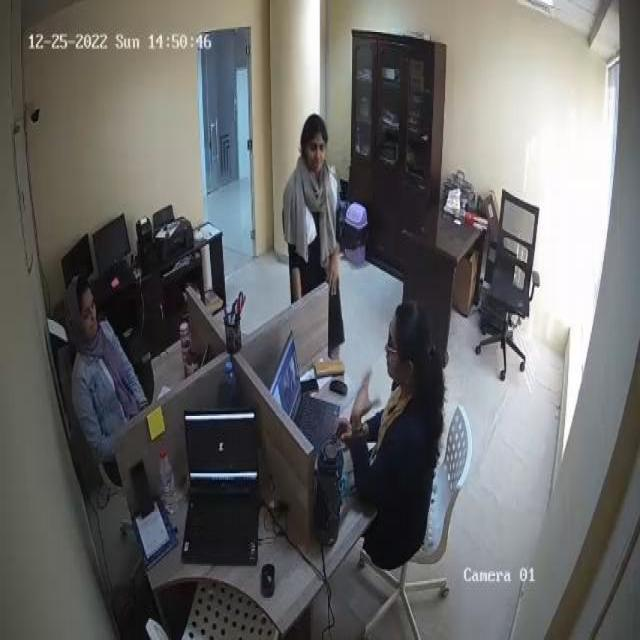bare_hand: (352, 355, 379, 440), (334, 403, 358, 445), (326, 244, 344, 295)
